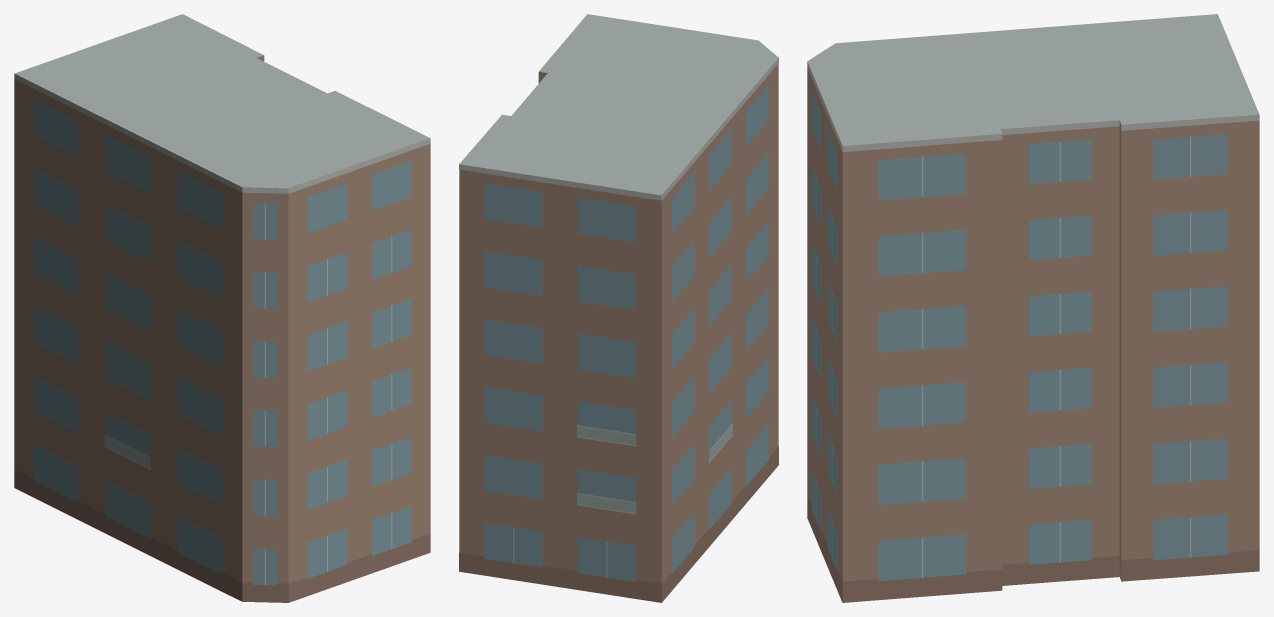
Rendered from survey-upis-32907141.glb.
The picture shows the model from 3 angles, left to right: view 1: azimuth 30°, elevation 25°; view 2: azimuth 150°, elevation 25°; view 3: azimuth 270°, elevation 25°; orthographic projection. The views are drawn at different scales.
Visible parts, largest first — view 1: survey-upis-32907141.tmp; view 2: survey-upis-32907141.tmp; view 3: survey-upis-32907141.tmp.
Boxes of the visible parts, bbox=[...] form: survey-upis-32907141.tmp: bbox=[14, 14, 430, 602]; survey-upis-32907141.tmp: bbox=[459, 14, 778, 602]; survey-upis-32907141.tmp: bbox=[807, 14, 1259, 602].
Bounding box in the file's own units: 11.55 × 18.6 × 16.7.
